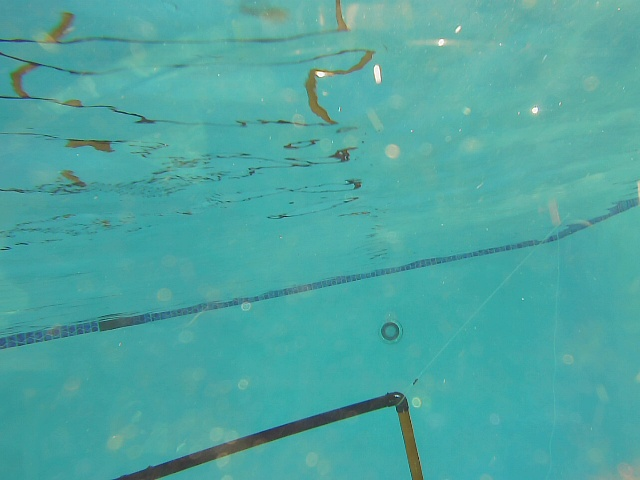Gate: (397, 403, 425, 480)
